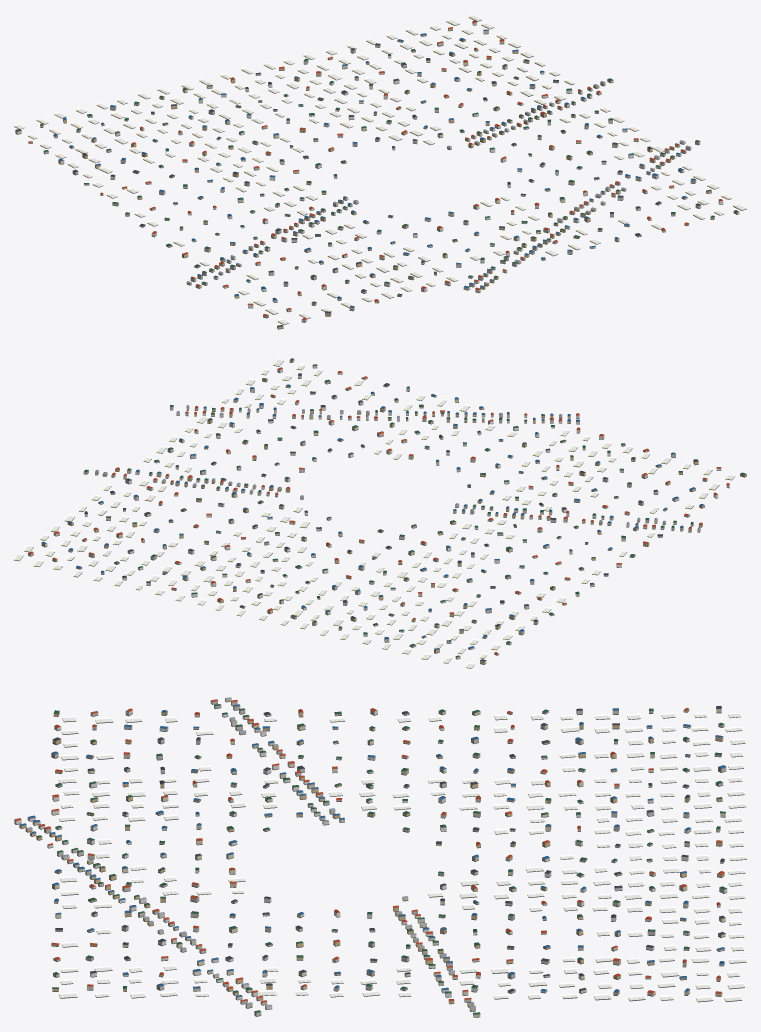
The model's file is buildings_T_W05_N06.glb.
3 views of the same model, one above another, from view 1: azimuth 30°, elevation 25°; view 2: azimuth 150°, elevation 25°; view 3: azimuth 270°, elevation 25° (orthographic). The views are drawn at different scales.
Parts seen in each view (by area): view 1: T_W05_N06_roofs_agri_greenhouse_arch, T_W05_N06_slope_seating_foundations, T_W05_N06_walls_wall_french_ochre_villa, T_W05_N06_walls_wall_dalat_cream_stucco, T_W05_N06_walls_wall_pastel_sand_gray, T_W05_N06_walls_wall_modern_warm_white, T_W05_N06_roofs_roof_pine_green_hip, T_W05_N06_roofs_roof_highland_blue_gable, T_W05_N06_roofs_roof_terracotta_gable, T_W05_N06_roofs_roof_slate_French_villa_hip; view 2: T_W05_N06_roofs_agri_greenhouse_arch, T_W05_N06_slope_seating_foundations, T_W05_N06_walls_wall_french_ochre_villa, T_W05_N06_walls_wall_dalat_cream_stucco, T_W05_N06_walls_wall_pastel_sand_gray, T_W05_N06_roofs_roof_pine_green_hip, T_W05_N06_walls_wall_modern_warm_white, T_W05_N06_roofs_roof_highland_blue_gable, T_W05_N06_roofs_roof_terracotta_gable, T_W05_N06_roofs_roof_slate_French_villa_hip; view 3: T_W05_N06_roofs_agri_greenhouse_arch, T_W05_N06_slope_seating_foundations, T_W05_N06_walls_wall_dalat_cream_stucco, T_W05_N06_walls_wall_french_ochre_villa, T_W05_N06_walls_wall_pastel_sand_gray, T_W05_N06_walls_wall_modern_warm_white, T_W05_N06_roofs_roof_pine_green_hip, T_W05_N06_roofs_roof_highland_blue_gable, T_W05_N06_roofs_roof_terracotta_gable, T_W05_N06_roofs_roof_slate_French_villa_hip.
Boxes of the visible parts, x1,y1,x2,y2 form: T_W05_N06_roofs_agri_greenhouse_arch: [14, 14, 746, 324]; T_W05_N06_slope_seating_foundations: [14, 16, 746, 329]; T_W05_N06_walls_wall_french_ochre_villa: [63, 28, 739, 328]; T_W05_N06_walls_wall_dalat_cream_stucco: [15, 22, 714, 293]; T_W05_N06_walls_wall_pastel_sand_gray: [43, 34, 700, 317]; T_W05_N06_walls_wall_modern_warm_white: [53, 56, 723, 322]; T_W05_N06_roofs_roof_pine_green_hip: [40, 49, 738, 327]; T_W05_N06_roofs_roof_highland_blue_gable: [53, 29, 695, 307]; T_W05_N06_roofs_roof_terracotta_gable: [28, 20, 722, 320]; T_W05_N06_roofs_roof_slate_French_villa_hip: [15, 43, 701, 313]; T_W05_N06_roofs_agri_greenhouse_arch: [14, 358, 735, 668]; T_W05_N06_slope_seating_foundations: [14, 360, 746, 668]; T_W05_N06_walls_wall_french_ochre_villa: [52, 359, 746, 653]; T_W05_N06_walls_wall_dalat_cream_stucco: [28, 365, 700, 664]; T_W05_N06_walls_wall_pastel_sand_gray: [76, 377, 729, 644]; T_W05_N06_roofs_roof_pine_green_hip: [84, 358, 746, 657]; T_W05_N06_walls_wall_modern_warm_white: [98, 369, 721, 649]; T_W05_N06_roofs_roof_highland_blue_gable: [42, 384, 704, 650]; T_W05_N06_roofs_roof_terracotta_gable: [29, 367, 729, 654]; T_W05_N06_roofs_roof_slate_French_villa_hip: [84, 373, 698, 661]; T_W05_N06_roofs_agri_greenhouse_arch: [58, 712, 746, 1001]; T_W05_N06_slope_seating_foundations: [14, 701, 746, 1017]; T_W05_N06_walls_wall_dalat_cream_stucco: [32, 698, 725, 1017]; T_W05_N06_walls_wall_french_ochre_villa: [19, 711, 724, 1006]; T_W05_N06_walls_wall_pastel_sand_gray: [44, 700, 726, 1016]; T_W05_N06_walls_wall_modern_warm_white: [14, 710, 727, 1009]; T_W05_N06_roofs_roof_pine_green_hip: [36, 704, 726, 1014]; T_W05_N06_roofs_roof_highland_blue_gable: [20, 704, 726, 997]; T_W05_N06_roofs_roof_terracotta_gable: [15, 699, 724, 1002]; T_W05_N06_roofs_roof_slate_French_villa_hip: [52, 706, 725, 992].
Bounding box in the file's own units: 1927 × 33.37 × 1848.
